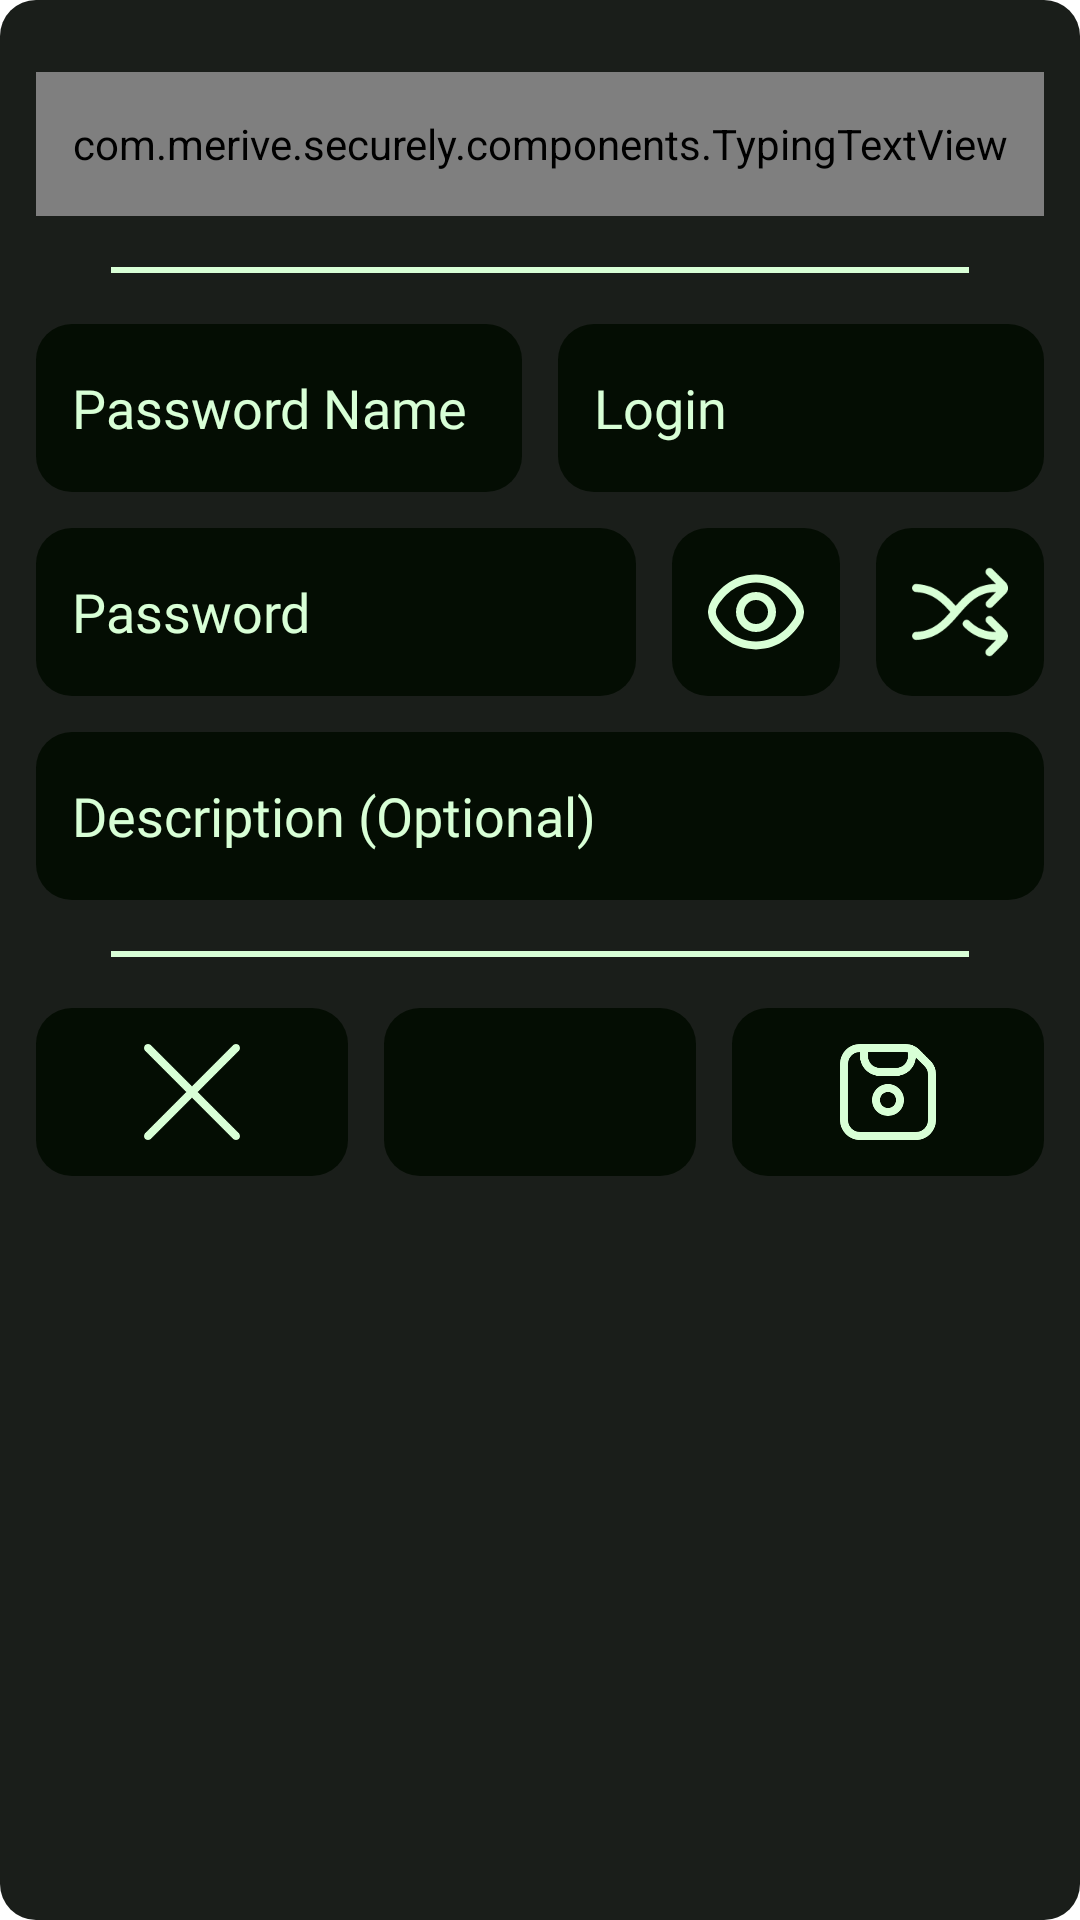

Icons on this 1080×1920 Android screen, each with the point to tap as (x=x, y=y):
cancel: (x=192, y=1092)
eye: (x=756, y=612)
generate: (x=960, y=612)
save: (x=888, y=1092)
